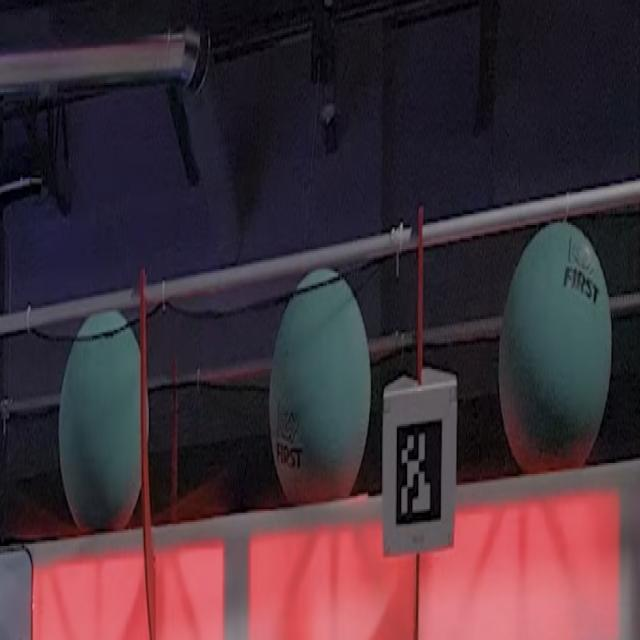Algae: (498, 222, 611, 474), (270, 267, 371, 505), (60, 309, 148, 533)
